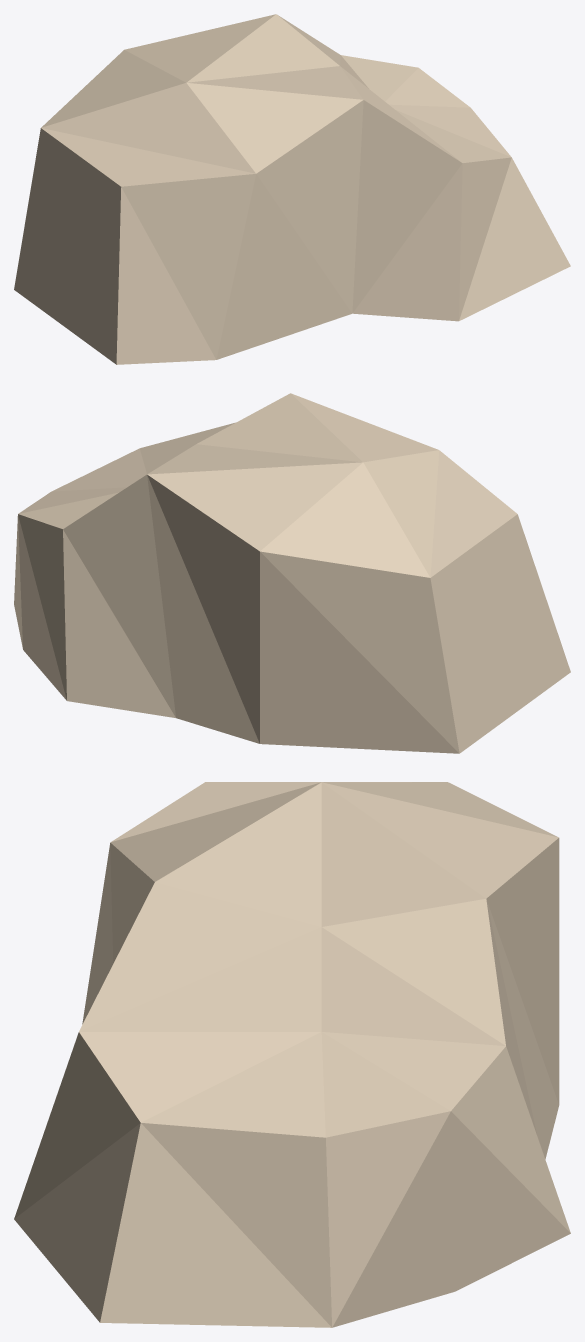
Rendered from rock_d.gltf.
3 renders of one model, top to bottom at view 1: azimuth 30°, elevation 25°; view 2: azimuth 150°, elevation 25°; view 3: azimuth 270°, elevation 25°, orthographic. The views are drawn at different scales.
Parts seen in each view (by area): view 1: rock_d001; view 2: rock_d001; view 3: rock_d001.
Part boxes in pixels (x1,y1,x2,y2): rock_d001: (14, 14, 570, 364); rock_d001: (14, 393, 570, 753); rock_d001: (14, 782, 570, 1327).
Bounding box in the file's own units: 0.2564 × 0.1124 × 0.1824.
Materials: 1 (1 with a texture image).
